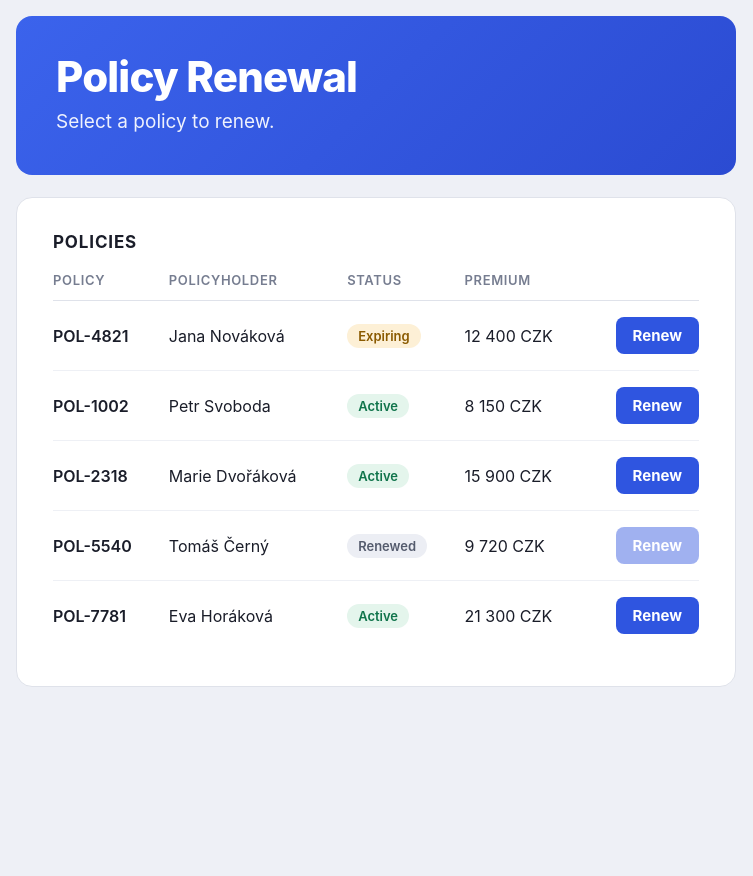
Test case: Renewal edge cases › prefills three previous claims from the policy
The width and height of the screenshot is (753, 876).
Click the button with test id "renew" in the row of "POL-4821" at [658, 336], box [616, 317, 699, 354]
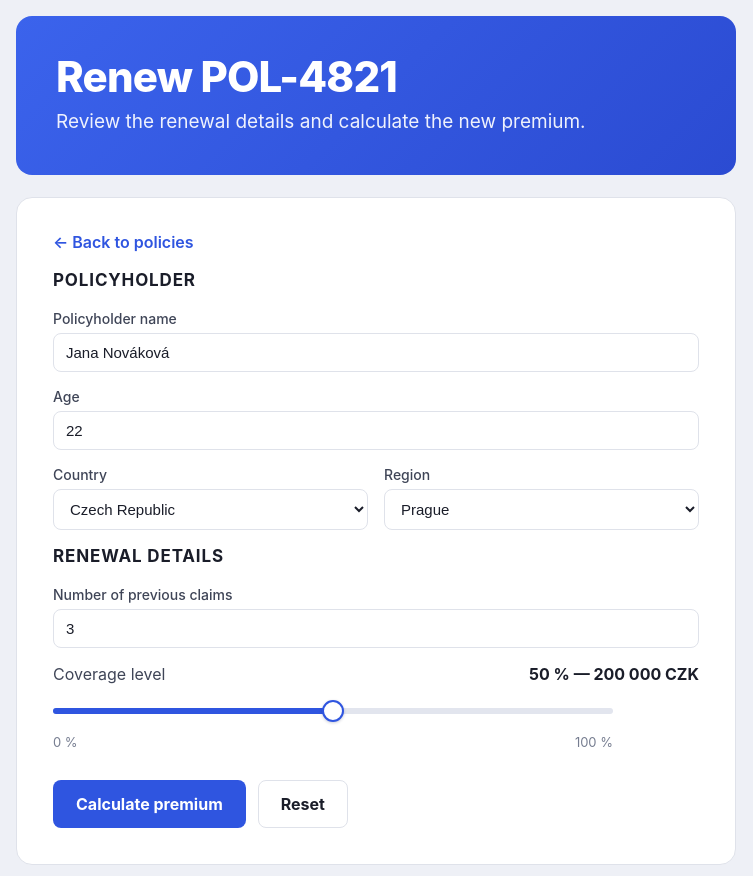
Expected: the field with test id "policyholder-name" is shown, [53, 333, 699, 372]
Expected: the number field with test id "prior-claims" holds "3", [53, 609, 699, 648]
